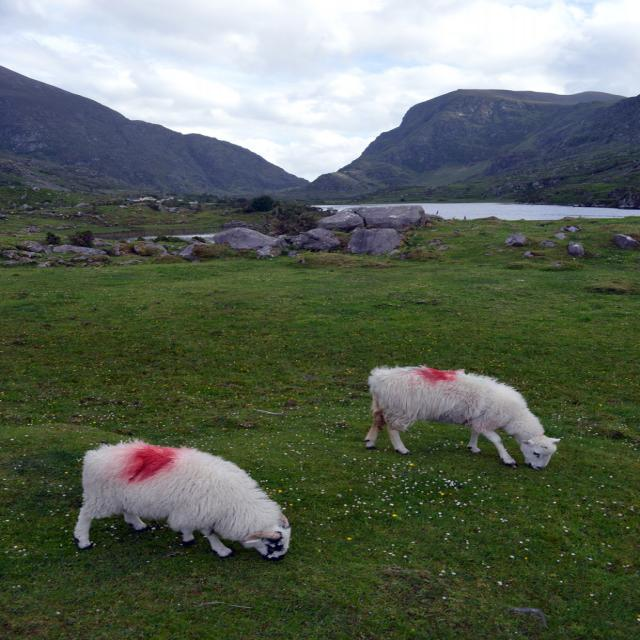Sheep: (73, 438, 293, 561), (365, 366, 555, 472)
